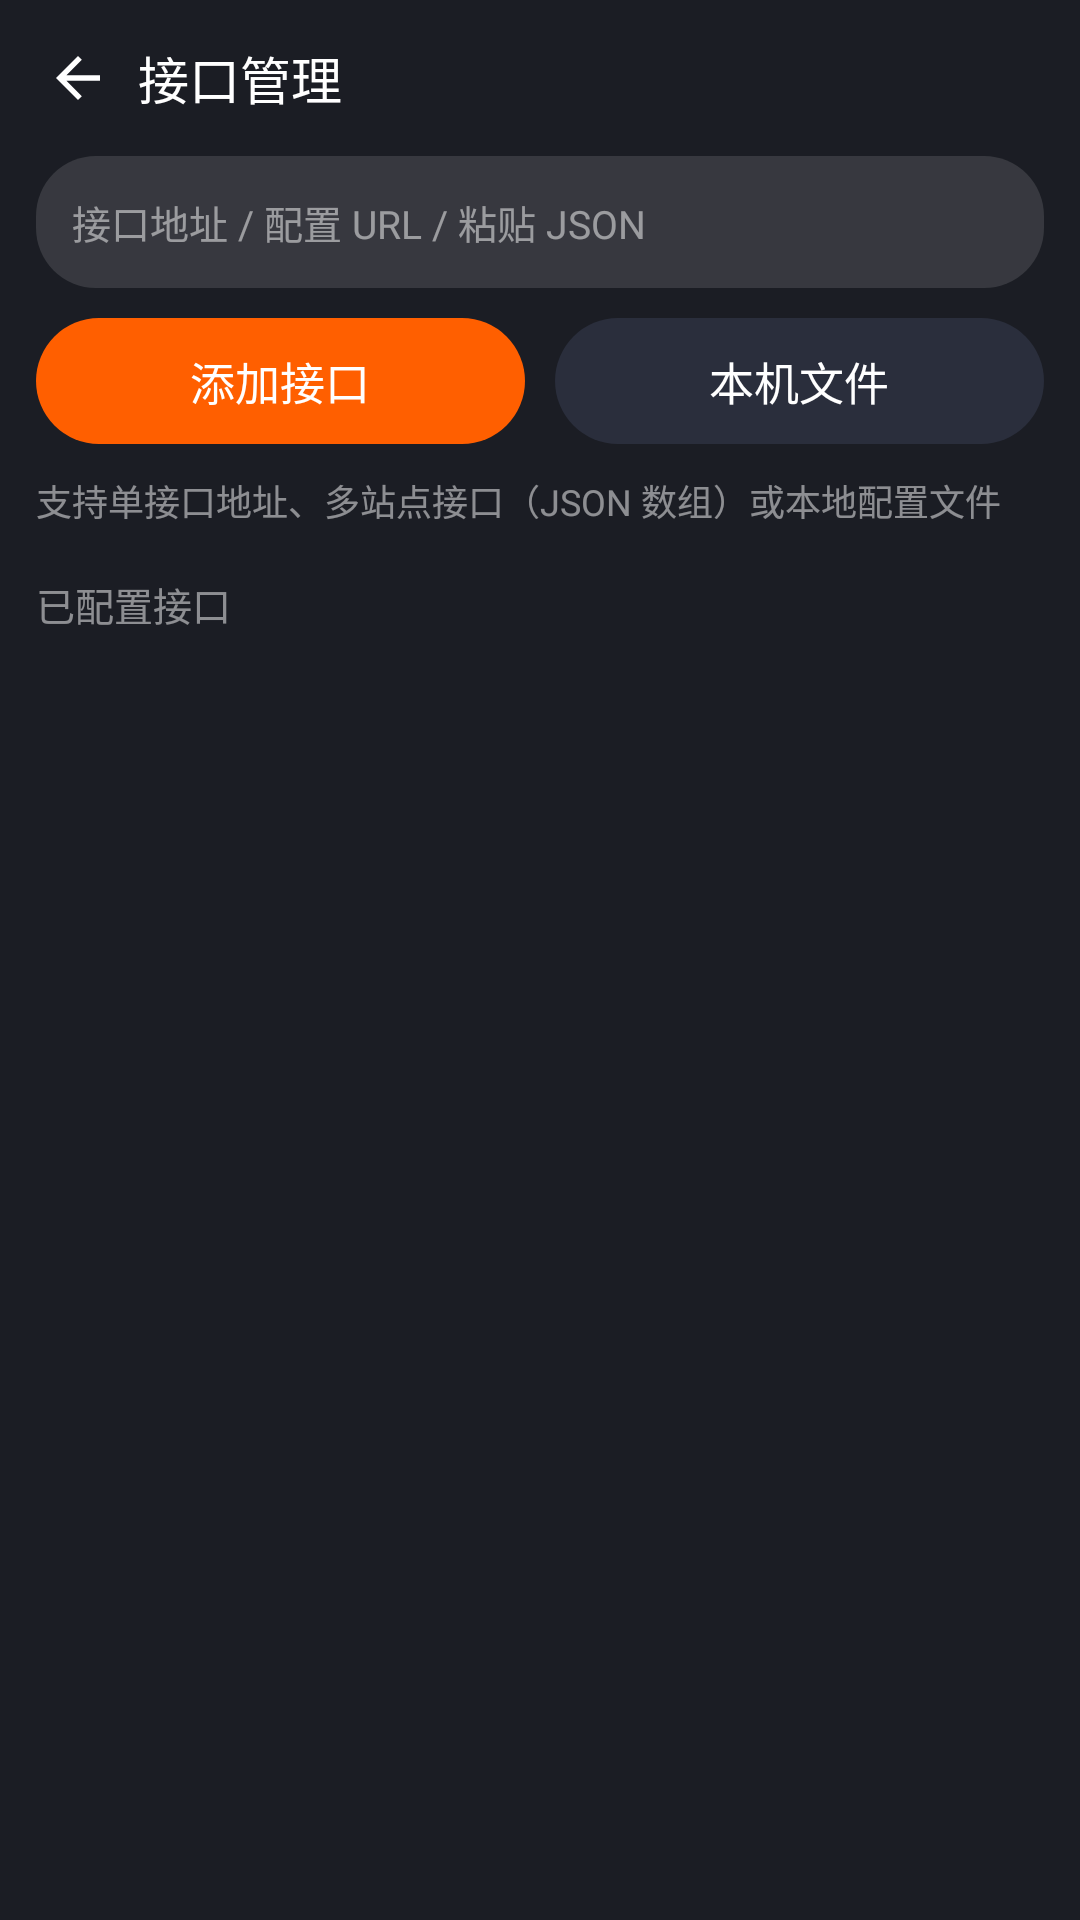

Locate icon controls on the screen. Image size 1080 × 1920, boxes as (x1, y1, x2, y2).
back: (56, 56, 100, 100)
